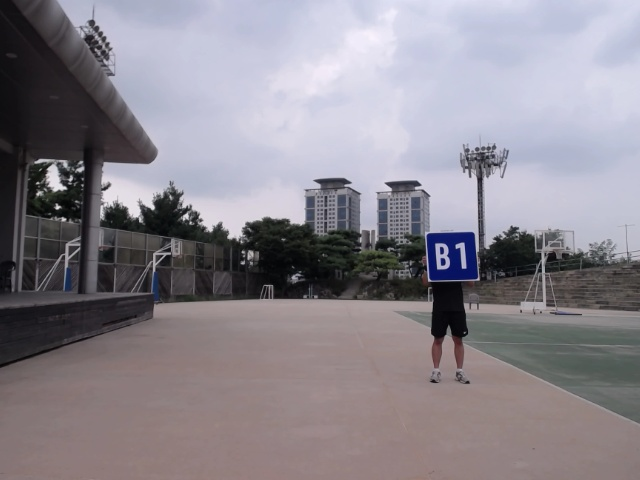delivery_b1: (425, 231, 479, 282)
